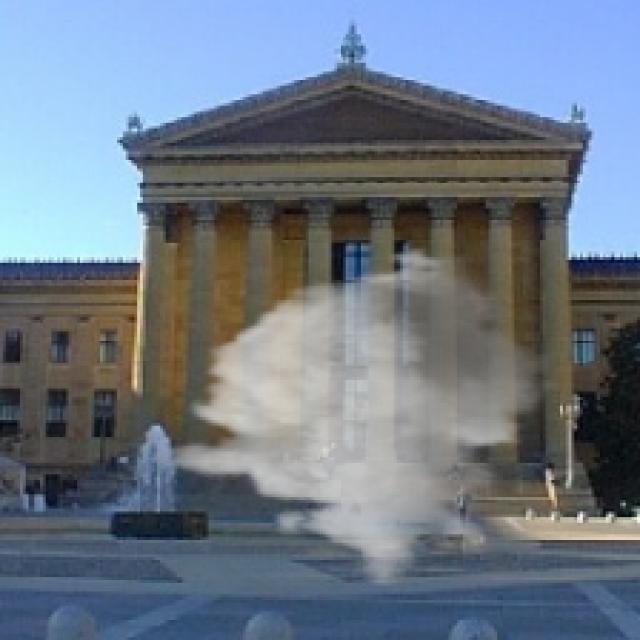smoke: (160, 246, 566, 588)
